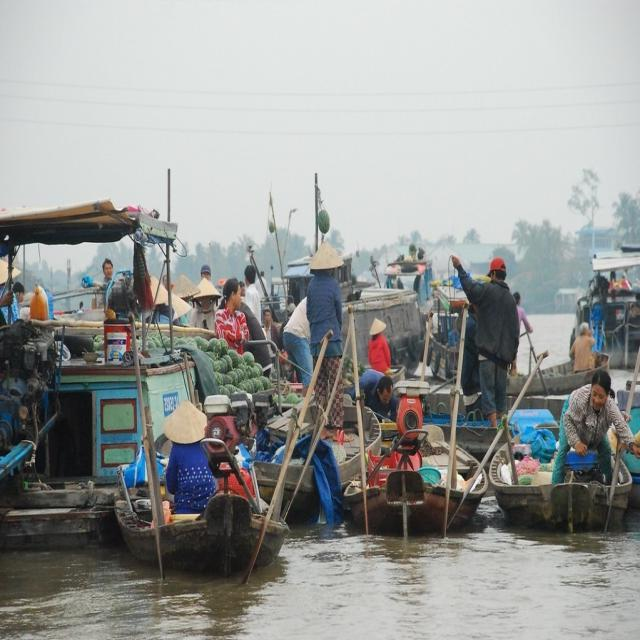boat: (129, 446, 287, 566), (497, 408, 638, 534), (341, 423, 492, 533)
